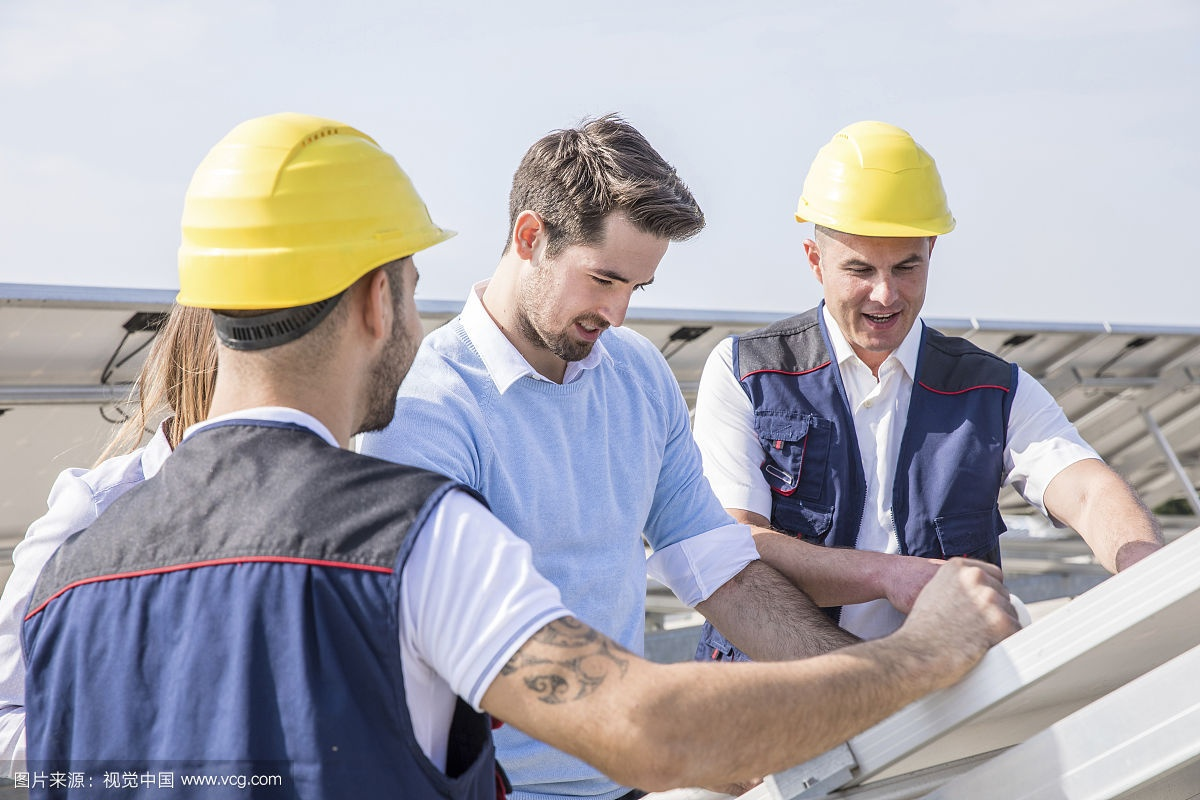none: (483, 115, 707, 364)
yellow: (172, 104, 440, 437), (796, 114, 965, 353)
